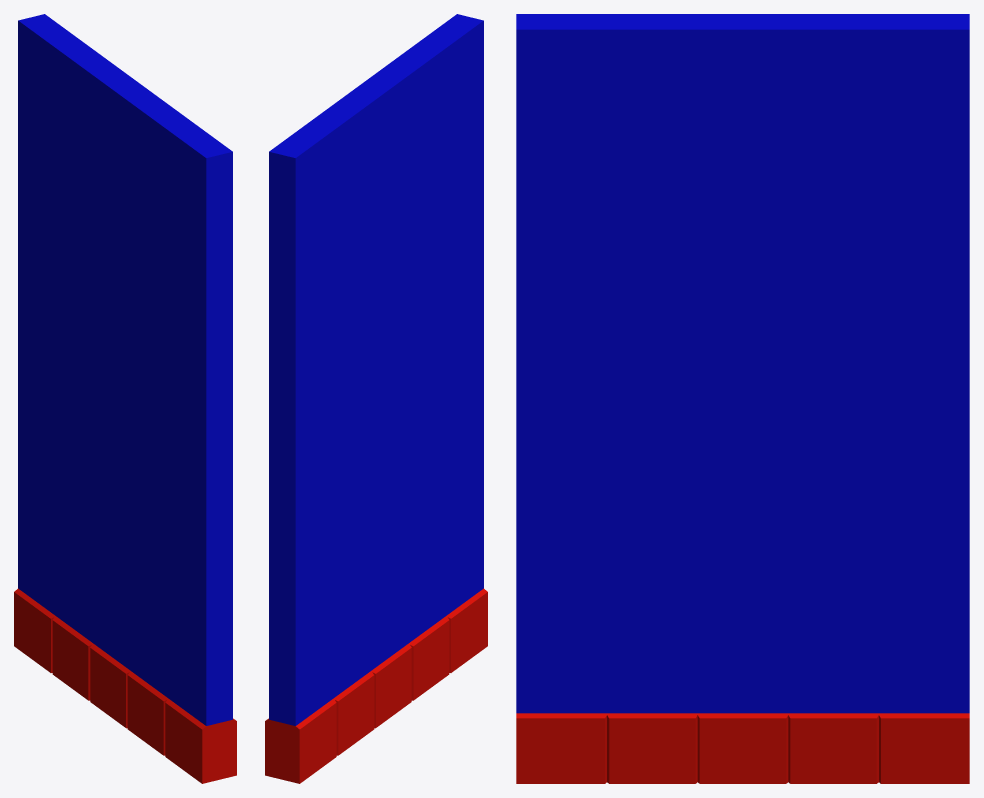
Rendered from wall 1 lowpoly.fbx.
3 renders of one model, left to right at view 1: azimuth 30°, elevation 25°; view 2: azimuth 150°, elevation 25°; view 3: azimuth 270°, elevation 25°, orthographic. The views are drawn at different scales.
Parts seen in each view (by area): view 1: Cube.001; view 2: Cube.001; view 3: Cube.001.
Part boxes in pixels (x1,y1,x2,y2): Cube.001: (14, 14, 236, 783); Cube.001: (265, 14, 487, 783); Cube.001: (516, 14, 969, 783).
Size of the model in its own units: 31.98 by 550 by 300.
